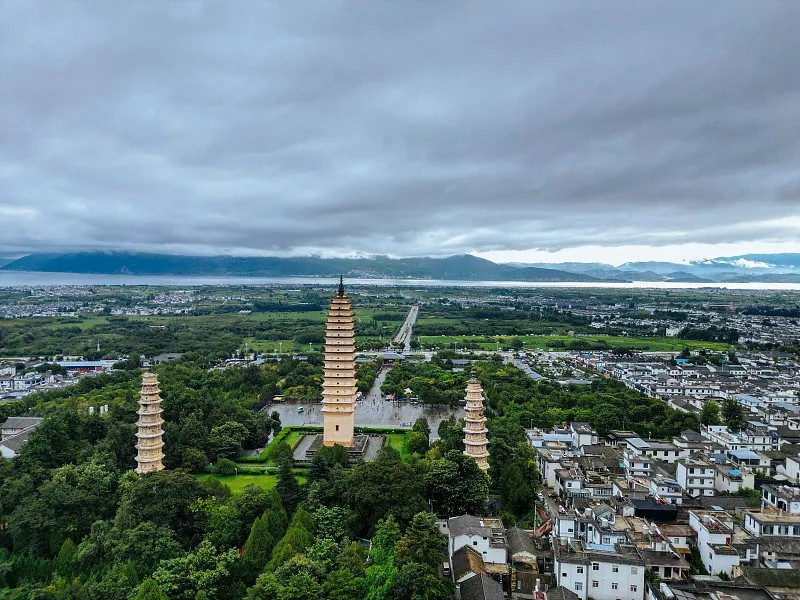ThreePagoda: (321, 275, 358, 447)
